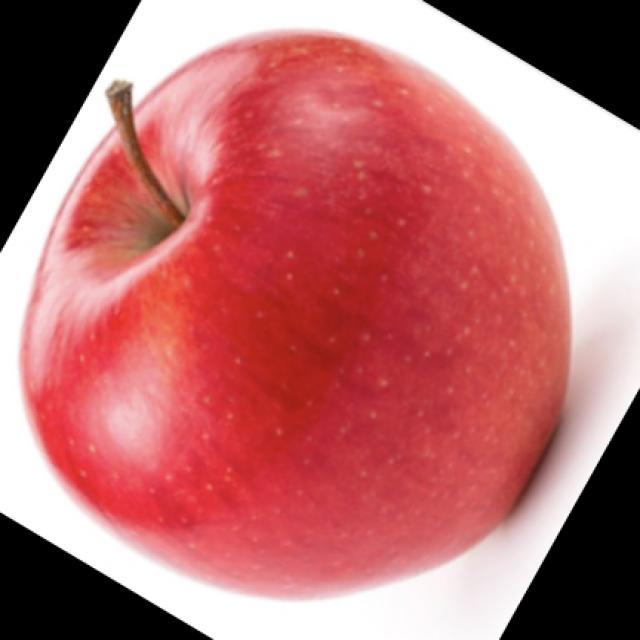Fresh Apple: (28, 18, 588, 640)
